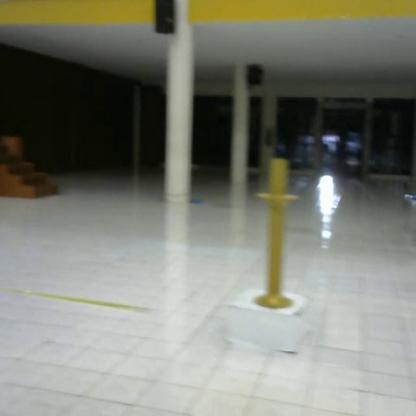pole: (254, 156, 301, 315)
